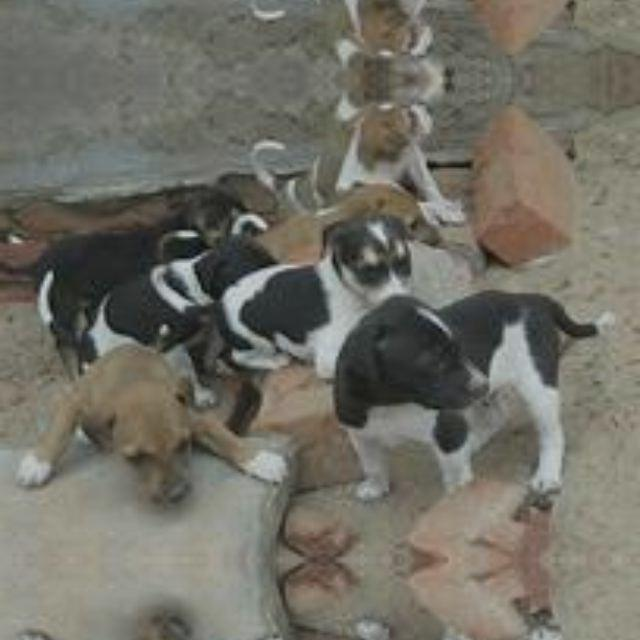dog: (326, 288, 576, 484), (34, 332, 252, 508), (261, 207, 411, 333), (34, 611, 253, 640), (326, 636, 577, 640)
